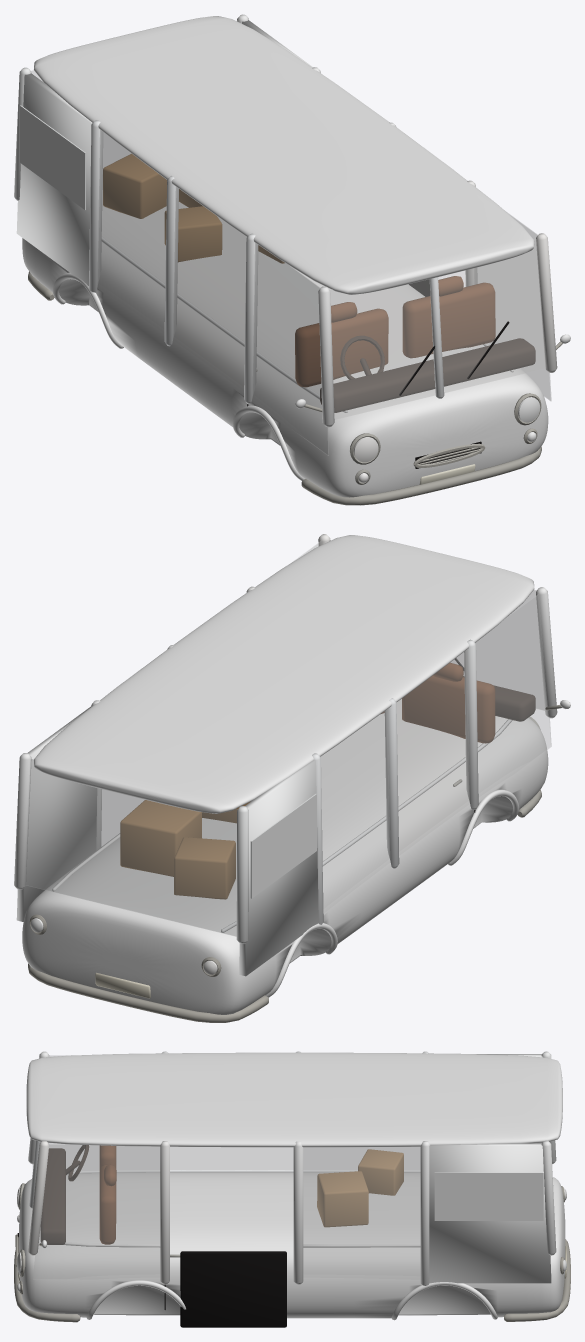
The model's file is delivery_van.glb.
3 renders of one model, top to bottom at view 1: azimuth 30°, elevation 25°; view 2: azimuth 150°, elevation 25°; view 3: azimuth 270°, elevation 25°, orthographic. The views are drawn at different scales.
Visible parts, largest first — view 1: Autolack zwei, Autoglas, Autolack, Sammel Stoff, Sammel Metall, Schild delivery_van logo, Scheinwerfer, Sammel Glatt; view 2: Autolack zwei, Autoglas, Autolack, Sammel Stoff, Schild delivery_van logo, Sammel Metall, Sammel Lack; view 3: Autolack zwei, Autolack, Autoglas, Sammel Stoff, Sammel Glatt, Schild delivery_van logo, Sammel Metall.
Part boxes in pixels (x1,y1,x2,y2): Autolack zwei: [14, 14, 557, 427]; Autoglas: [31, 20, 551, 455]; Autolack: [22, 176, 570, 497]; Sammel Stoff: [103, 154, 535, 412]; Sammel Metall: [28, 271, 562, 505]; Schild delivery_van logo: [20, 105, 85, 209]; Scheinwerfer: [353, 397, 540, 462]; Sammel Glatt: [247, 279, 509, 468]; Autolack zwei: [14, 534, 557, 976]; Autoglas: [25, 540, 551, 936]; Autolack: [22, 699, 570, 1014]; Sammel Stoff: [120, 663, 535, 899]; Schild delivery_van logo: [250, 794, 316, 898]; Sammel Metall: [28, 705, 561, 1022]; Sammel Lack: [95, 972, 150, 998]; Autolack zwei: [26, 1051, 562, 1285]; Autolack: [19, 1172, 565, 1320]; Autoglas: [33, 1055, 550, 1279]; Sammel Stoff: [40, 1145, 403, 1244]; Sammel Glatt: [17, 1233, 286, 1327]; Schild delivery_van logo: [434, 1172, 543, 1220]; Sammel Metall: [14, 1183, 570, 1322].
Size of the model in its own units: 2.1 by 1.68 by 4.38.
